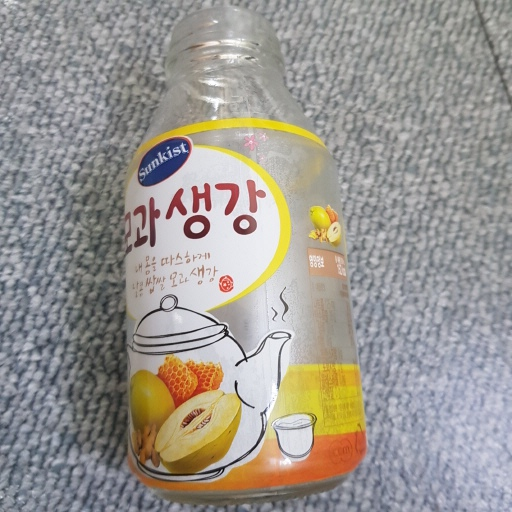Glass_4: (119, 6, 368, 498)
